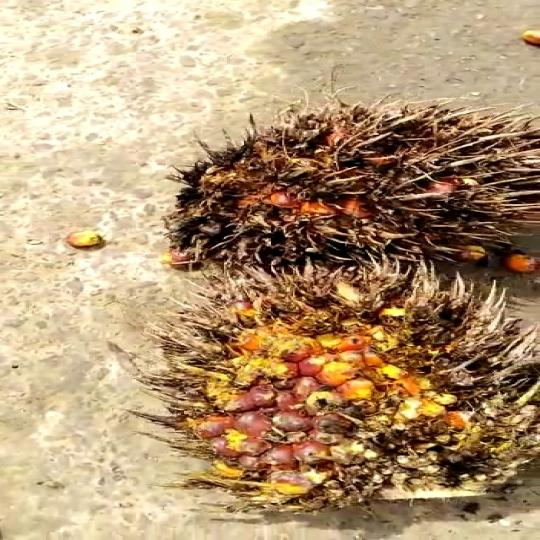terlalu masak: (144, 247, 523, 525), (133, 115, 540, 270)
